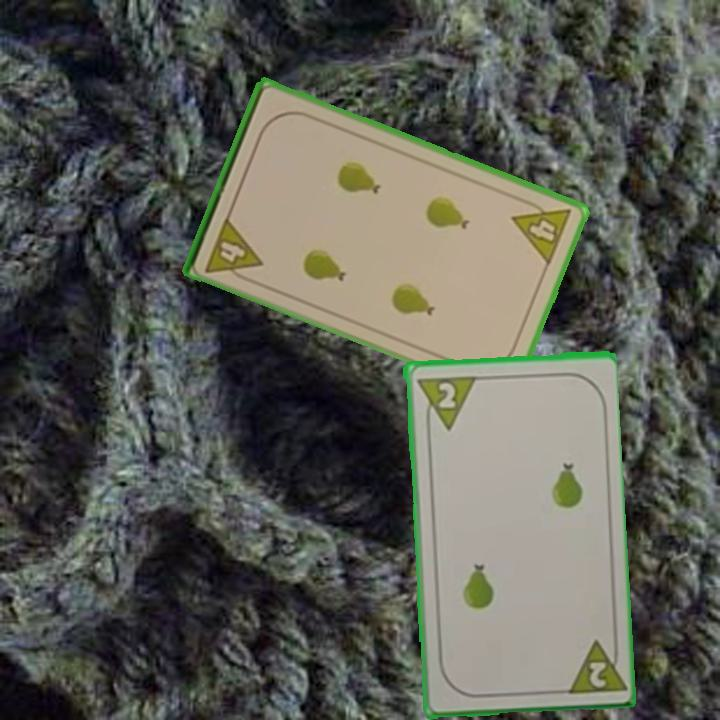2p: (561, 633, 626, 697), (412, 371, 477, 433)
4p: (508, 193, 575, 268), (201, 213, 265, 286)
